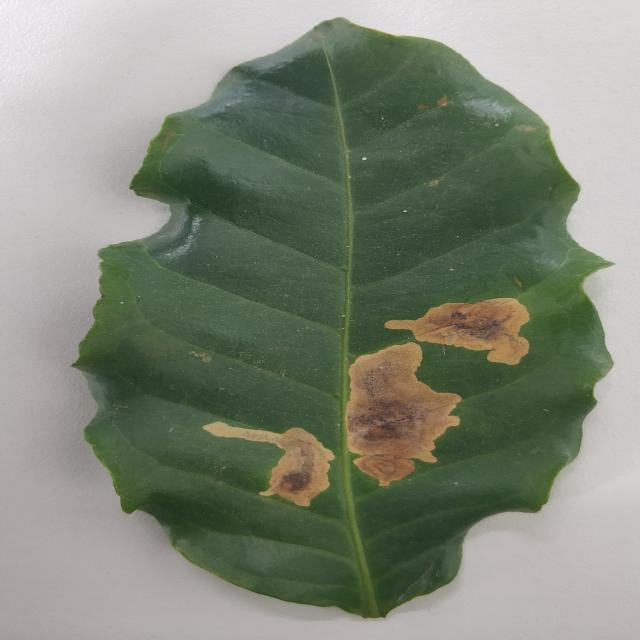Plaga-Minador: (73, 18, 615, 622)
